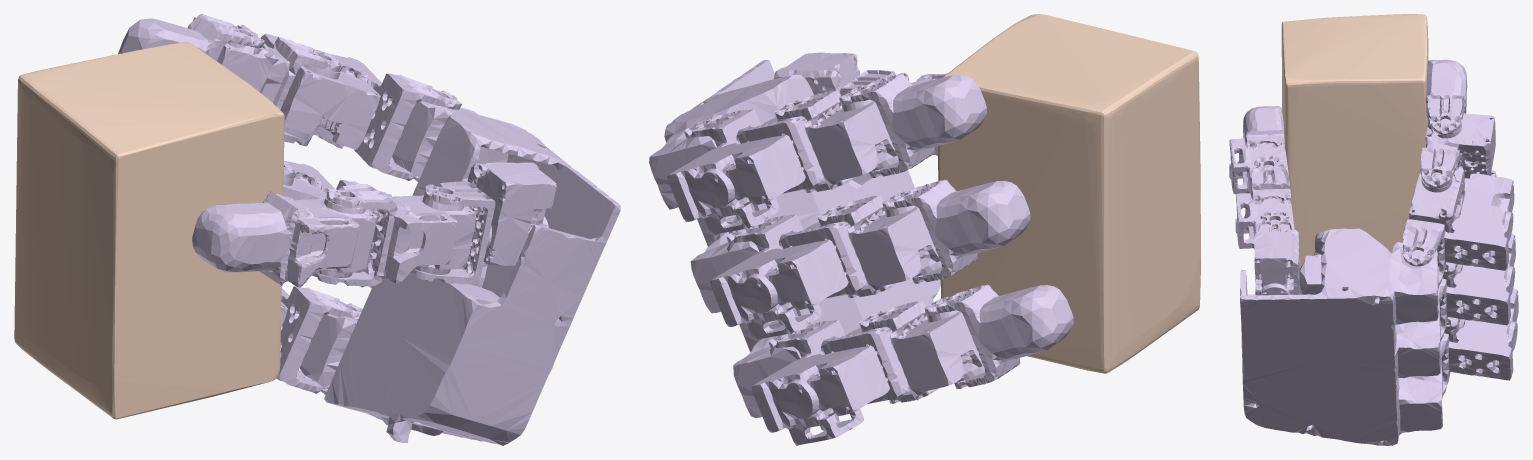
File: 8354cd8b02b98a-closed.glb
3 renders of one model, left to right at view 1: azimuth 30°, elevation 25°; view 2: azimuth 150°, elevation 25°; view 3: azimuth 270°, elevation 25°, orthographic. The views are drawn at different scales.
Visible parts, largest first — view 1: LEAP_hand, world; view 2: LEAP_hand, world; view 3: LEAP_hand, world.
Boxes of the visible parts, x1,y1,x2,y2 form: LEAP_hand: (118, 14, 620, 445); world: (14, 42, 284, 419); LEAP_hand: (649, 52, 1073, 445); world: (938, 14, 1200, 373); LEAP_hand: (1229, 59, 1518, 445); world: (1281, 14, 1428, 268).
Size of the model in its own units: 0.2142 by 0.1778 by 0.1509.
